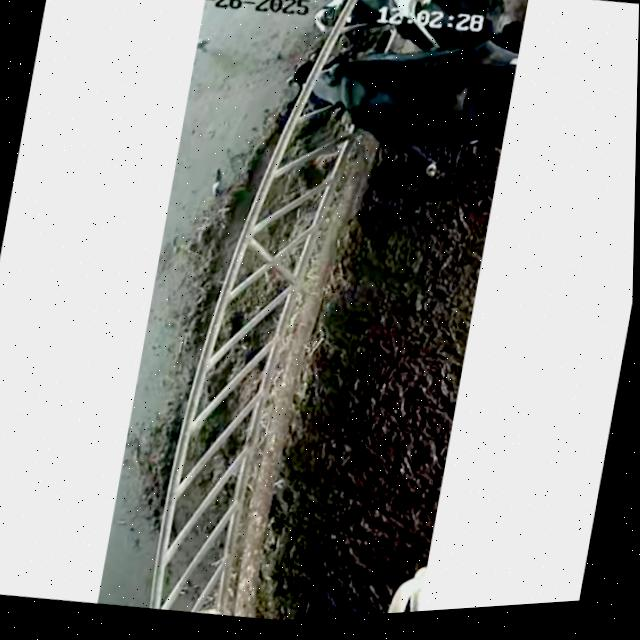eat: (255, 25, 424, 149), (296, 0, 455, 55)
